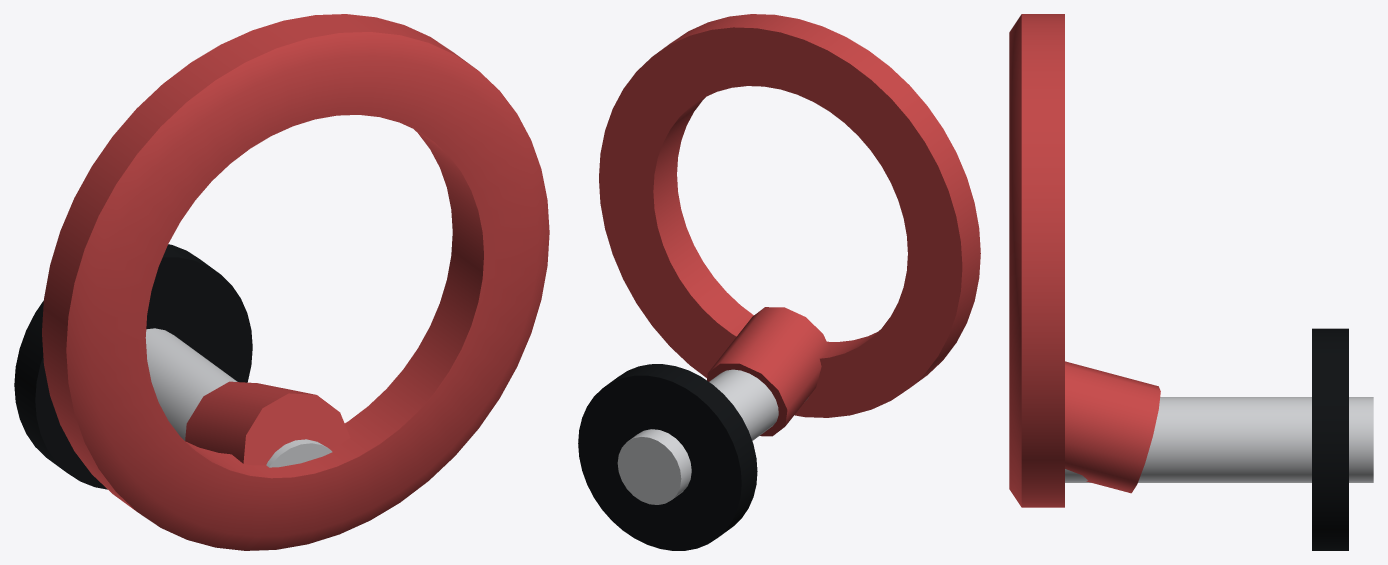
The model's file is FA06_tow_hook.glb.
The picture shows the model from 3 angles, left to right: view 1: azimuth 30°, elevation 25°; view 2: azimuth 150°, elevation 25°; view 3: azimuth 270°, elevation 25°; orthographic projection. The views are drawn at different scales.
Parts seen in each view (by area): view 1: MOD_ND_FA06_eye, MOD_ND_FA06_socket, MOD_ND_FA06_neck, MOD_ND_FA06_shaft; view 2: MOD_ND_FA06_eye, MOD_ND_FA06_socket, MOD_ND_FA06_neck, MOD_ND_FA06_shaft; view 3: MOD_ND_FA06_eye, MOD_ND_FA06_shaft, MOD_ND_FA06_neck, MOD_ND_FA06_socket.
Boxes of the visible parts, x1,y1,x2,y2 form: MOD_ND_FA06_eye: (42, 14, 549, 550); MOD_ND_FA06_socket: (14, 244, 252, 489); MOD_ND_FA06_neck: (185, 381, 350, 465); MOD_ND_FA06_shaft: (145, 328, 332, 467); MOD_ND_FA06_eye: (599, 14, 980, 417); MOD_ND_FA06_socket: (578, 364, 757, 550); MOD_ND_FA06_neck: (707, 307, 830, 436); MOD_ND_FA06_shaft: (617, 369, 808, 504); MOD_ND_FA06_eye: (1009, 14, 1064, 507); MOD_ND_FA06_shaft: (1065, 397, 1373, 482); MOD_ND_FA06_neck: (1065, 361, 1160, 493); MOD_ND_FA06_socket: (1312, 328, 1348, 550).
Bounding box in the file's own units: 0.08 × 0.09 × 0.059.
